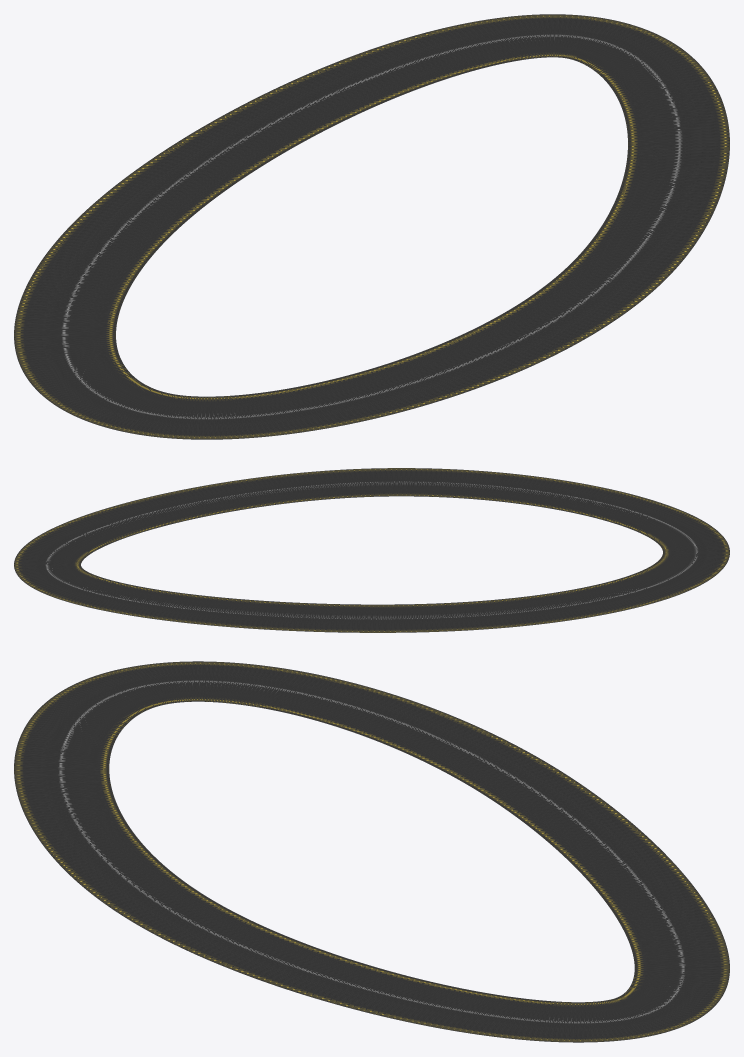
The model's file is pista.obj.
3 views of the same model, one above another, from view 1: azimuth 30°, elevation 25°; view 2: azimuth 150°, elevation 25°; view 3: azimuth 270°, elevation 25° (orthographic). The views are drawn at different scales.
Parts seen in each view (by area): view 1: road; view 2: road; view 3: road.
Boxes of the visible parts, x1,y1,x2,y2 form: road: [14, 14, 729, 439]; road: [14, 468, 729, 632]; road: [14, 661, 729, 1042].
Bounding box in the file's own units: 0.9459 × 0 × 0.7511.
